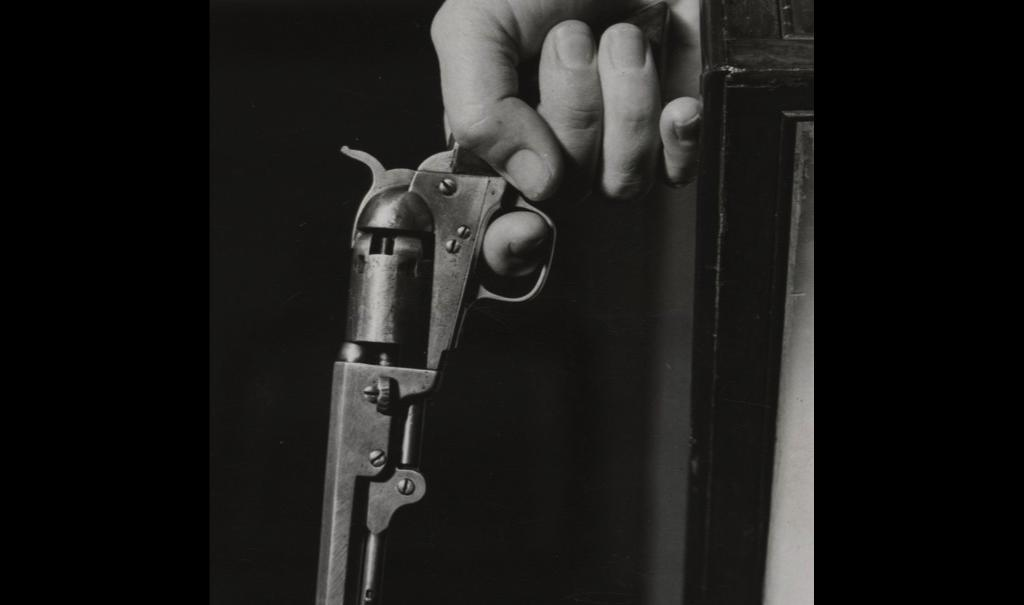gun: (307, 145, 562, 605)
